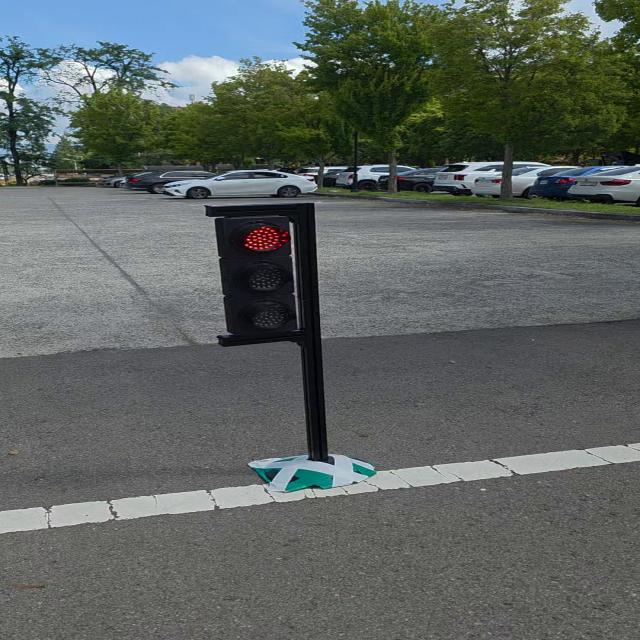red: (206, 207, 305, 343)
